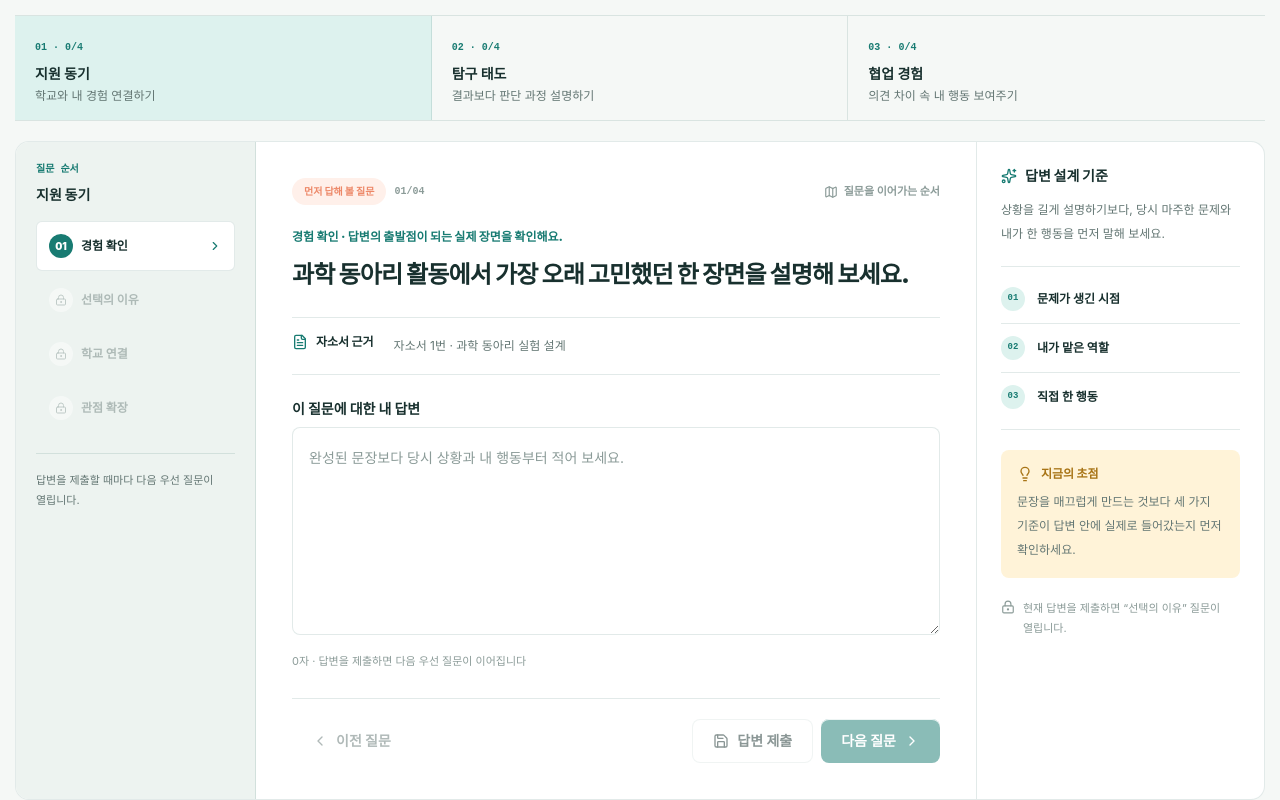
Test: QuestionPractice › unlocks the next priority question after saving a usable answer
The width and height of the screenshot is (1280, 800).
(page scrolled)
Type "실험 결과가 예상과 달랐을 때 기록 기준을 다시 세우고 팀원과 변인을 확인했습니다." into the text box labelled "이 질문에 대한 내 답변".
click(616, 531); type("실험 결과가 예상과 달랐을 때 기록 기준을 다시 세우고 팀원과 변인을 확인했습니다.")  # box x1=292 y1=427 x2=940 y2=635
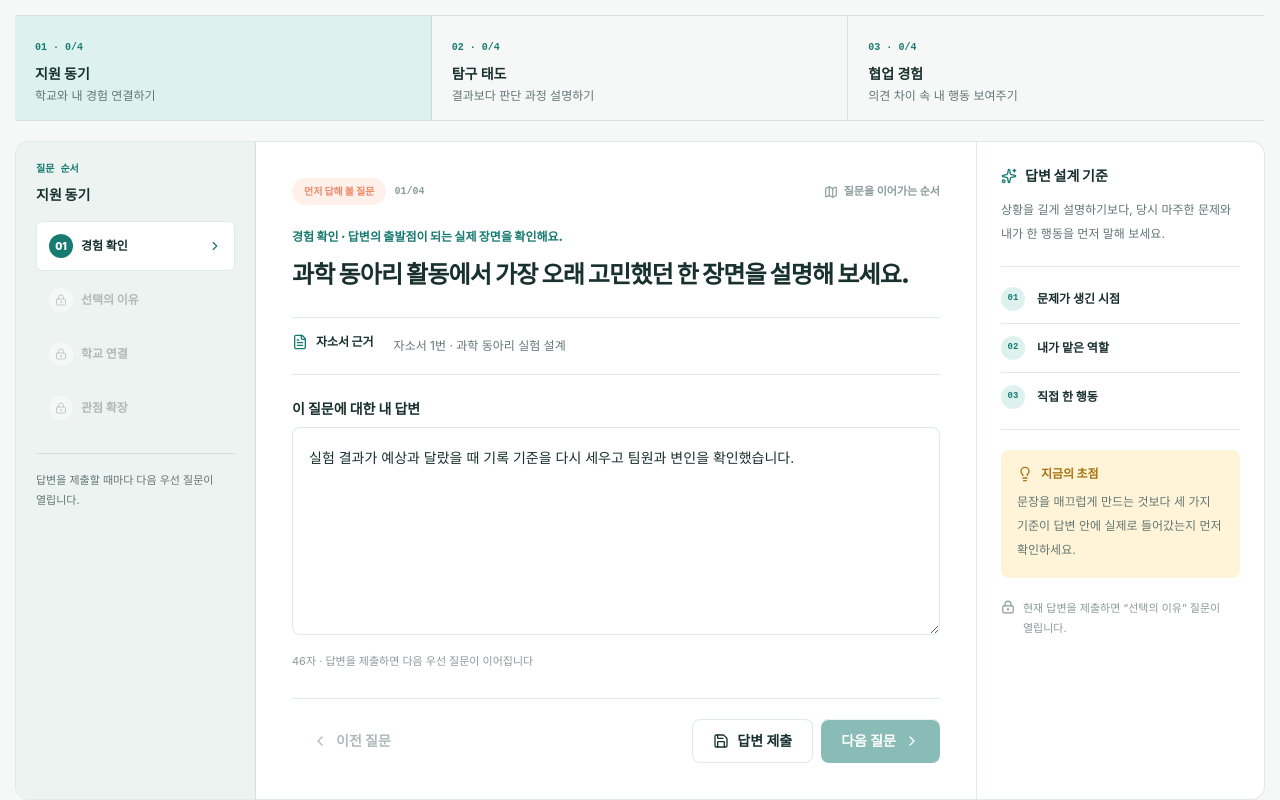
Click the button "답변 제출".
click(753, 740)  # box x1=692 y1=718 x2=813 y2=762
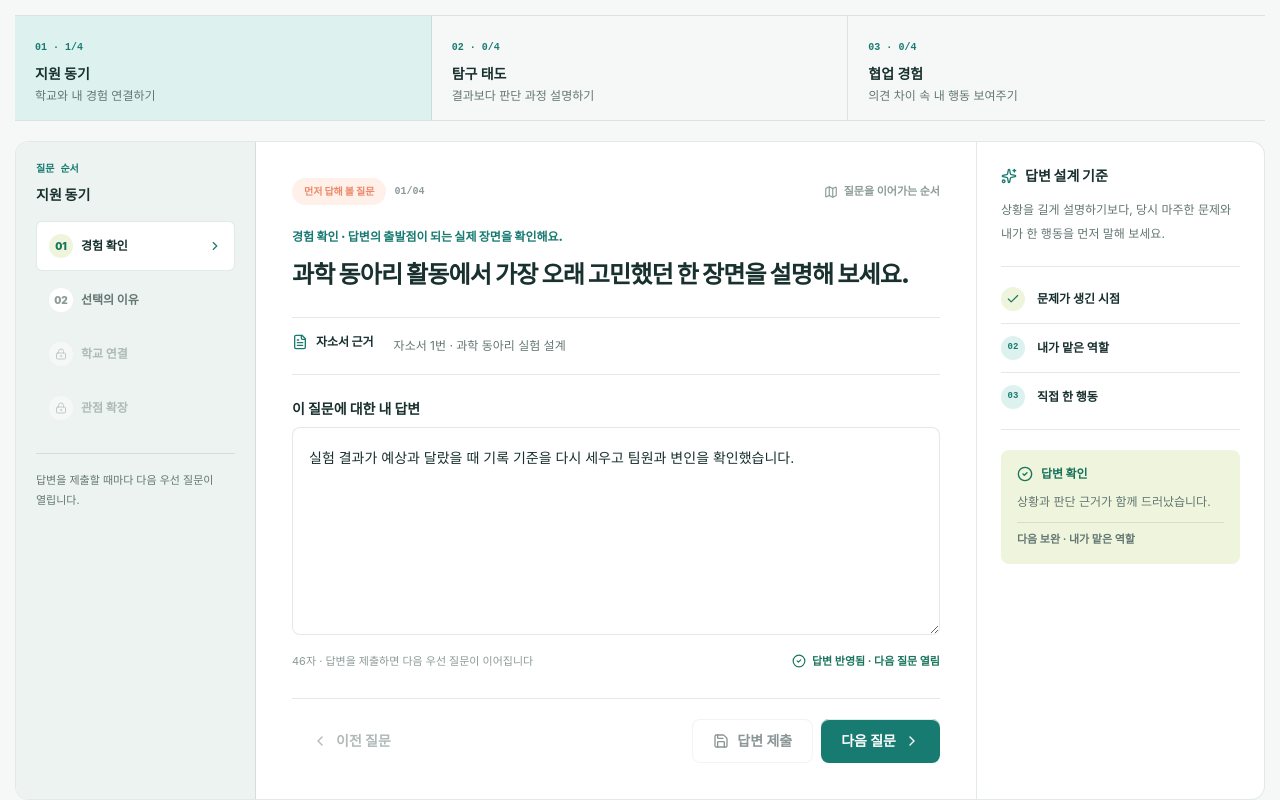
Check: the button with aria-label "이유를 이어 말할 질문 선택의 이유" is enabled, box x1=36 y1=275 x2=235 y2=325
Check: the message shows "다음 질문 열림", box x1=812 y1=654 x2=940 y2=668
